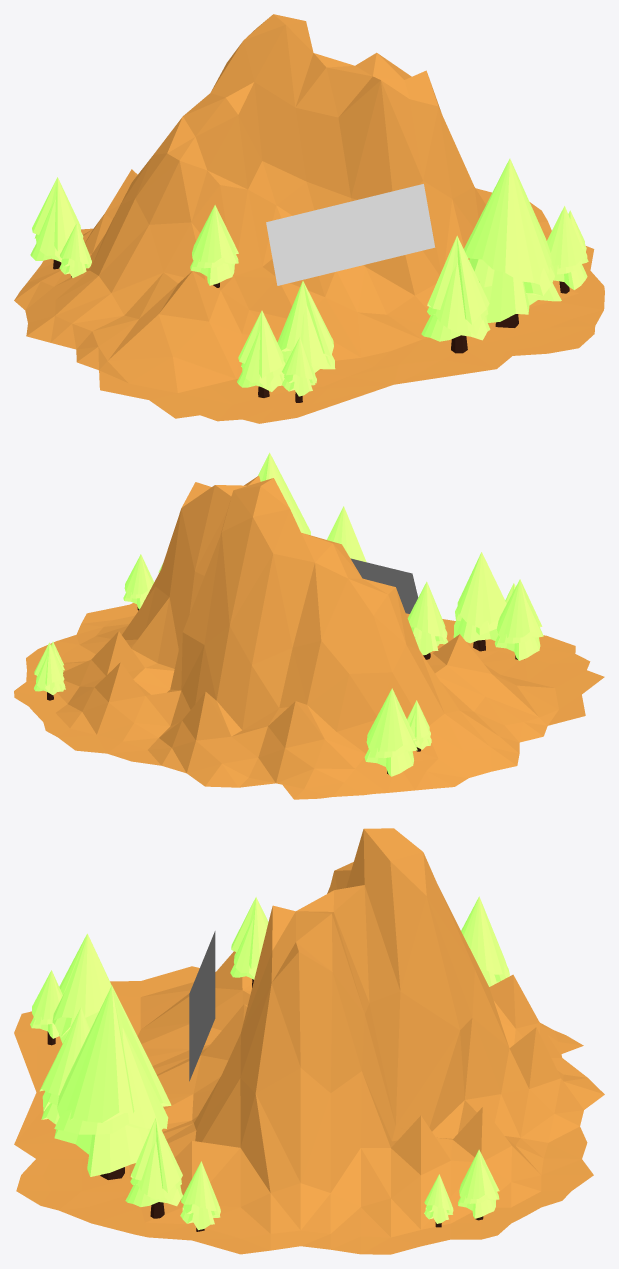
File: environment_small.fbx
The picture shows the model from 3 angles, top to bottom: view 1: azimuth 30°, elevation 25°; view 2: azimuth 150°, elevation 25°; view 3: azimuth 270°, elevation 25°; orthographic projection. The views are drawn at different scales.
Visible parts, largest first — view 1: Plane, Plane.001, Cone.003, Cone.027, Cone.034, Cone.039, Cone.000, Cone.006, Cone.033, Cone.023, Cone.001; view 2: Plane, Cone.034, Cone.000, Cone.039, Cone.006, Plane.001, Cone.005, Cone.040, Cone.003, Cone.027, Cone.001; view 3: Plane, Cone.003, Cone.033, Cone.034, Plane.001, Cone.000, Cone.027, Cone.006, Cone.005, Cone.040, Cone.023, Cone.004.
Part boxes in pixels (x1,y1,x2,y2): Plane: (14, 14, 604, 423); Plane.001: (266, 184, 435, 285); Cone.003: (464, 158, 561, 327); Cone.027: (421, 235, 490, 353); Cone.034: (277, 281, 335, 372); Cone.039: (237, 310, 285, 397); Cone.000: (30, 177, 83, 269); Cone.006: (190, 205, 238, 287); Cone.033: (547, 206, 588, 293); Cone.023: (282, 337, 316, 402); Cone.001: (59, 223, 91, 277); Plane: (14, 476, 604, 799); Cone.034: (453, 552, 506, 651); Cone.000: (364, 688, 417, 776); Cone.039: (494, 579, 543, 660); Cone.006: (407, 581, 447, 659); Plane.001: (350, 558, 418, 613); Cone.005: (34, 642, 65, 700); Cone.040: (123, 554, 154, 610); Cone.003: (258, 452, 310, 535); Cone.027: (327, 506, 366, 562); Cone.001: (407, 700, 431, 751); Plane: (14, 828, 604, 1254); Cone.003: (54, 985, 171, 1179); Cone.033: (125, 1118, 182, 1218); Cone.034: (52, 934, 111, 1043); Plane.001: (189, 931, 215, 1081); Cone.000: (461, 896, 509, 986); Cone.027: (39, 1007, 89, 1124); Cone.006: (230, 897, 268, 987); Cone.005: (458, 1149, 499, 1220); Cone.040: (180, 1161, 220, 1231); Cone.023: (30, 970, 62, 1045); Cone.004: (424, 1174, 453, 1227).
Size of the model in its own units: 23.23 by 10.7 by 20.13.
